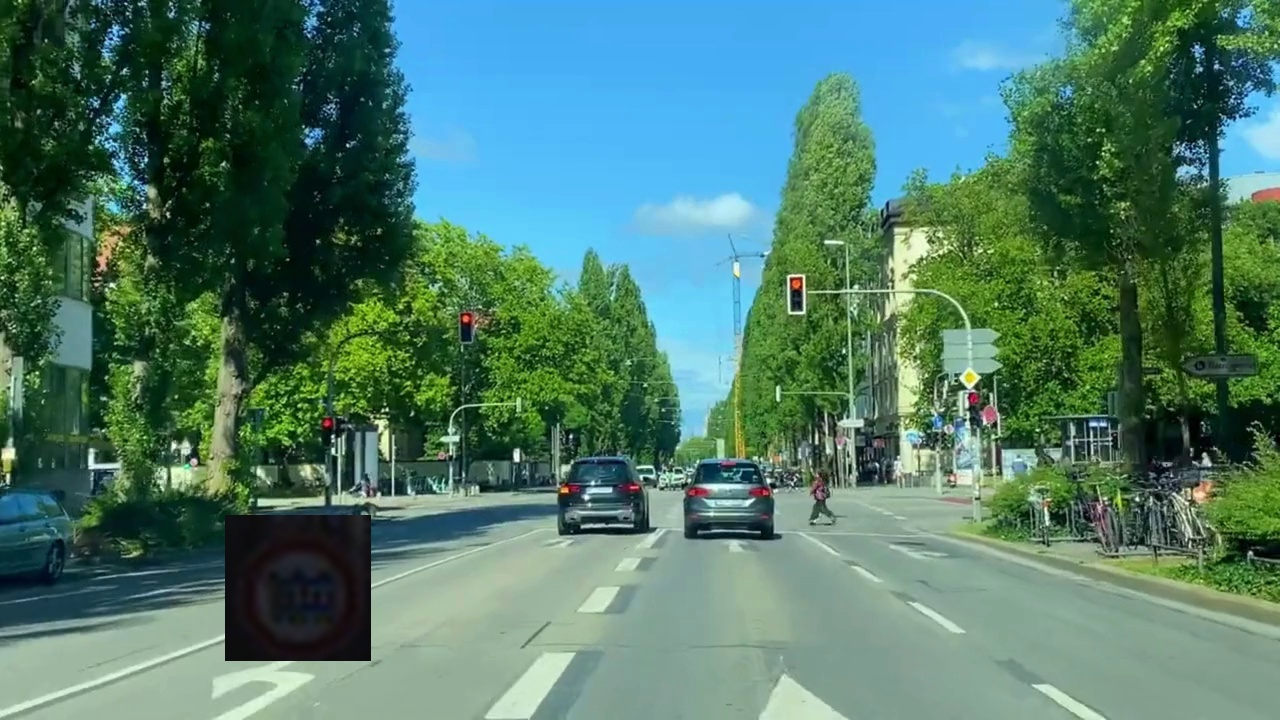Speed 100: (225, 515, 371, 661)
